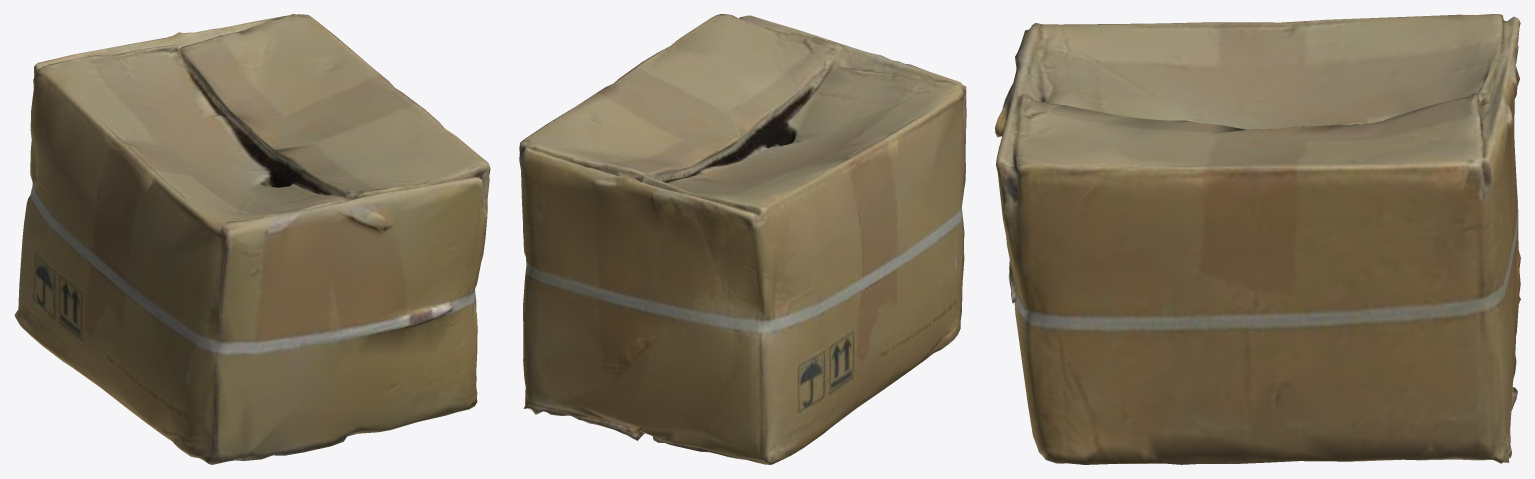
File: cardboard_box_01.glb
3 views of the same model, side by side, from view 1: azimuth 30°, elevation 25°; view 2: azimuth 150°, elevation 25°; view 3: azimuth 270°, elevation 25° (orthographic). The views are drawn at different scales.
Parts seen in each view (by area): view 1: cardboard_box_01; view 2: cardboard_box_01; view 3: cardboard_box_01.
Part boxes in pixels (x1,y1,x2,y2): cardboard_box_01: (14, 14, 490, 464); cardboard_box_01: (519, 14, 966, 464); cardboard_box_01: (995, 14, 1520, 464).
Bounding box in the file's own units: 0.3869 × 0.3418 × 0.5159.
Materials: 1 (1 with a texture image).
